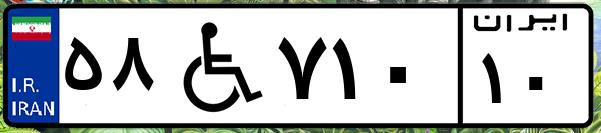0: (385, 28, 445, 110), (525, 38, 570, 115)
1: (330, 28, 385, 110), (475, 38, 525, 113)
5: (57, 26, 110, 100)
7: (270, 28, 330, 110)
8: (110, 28, 158, 98)
ژ (معلولین و جانبازان): (158, 12, 270, 120)
